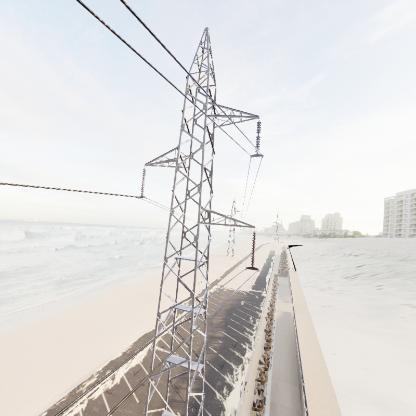tower: (130, 25, 267, 416)
